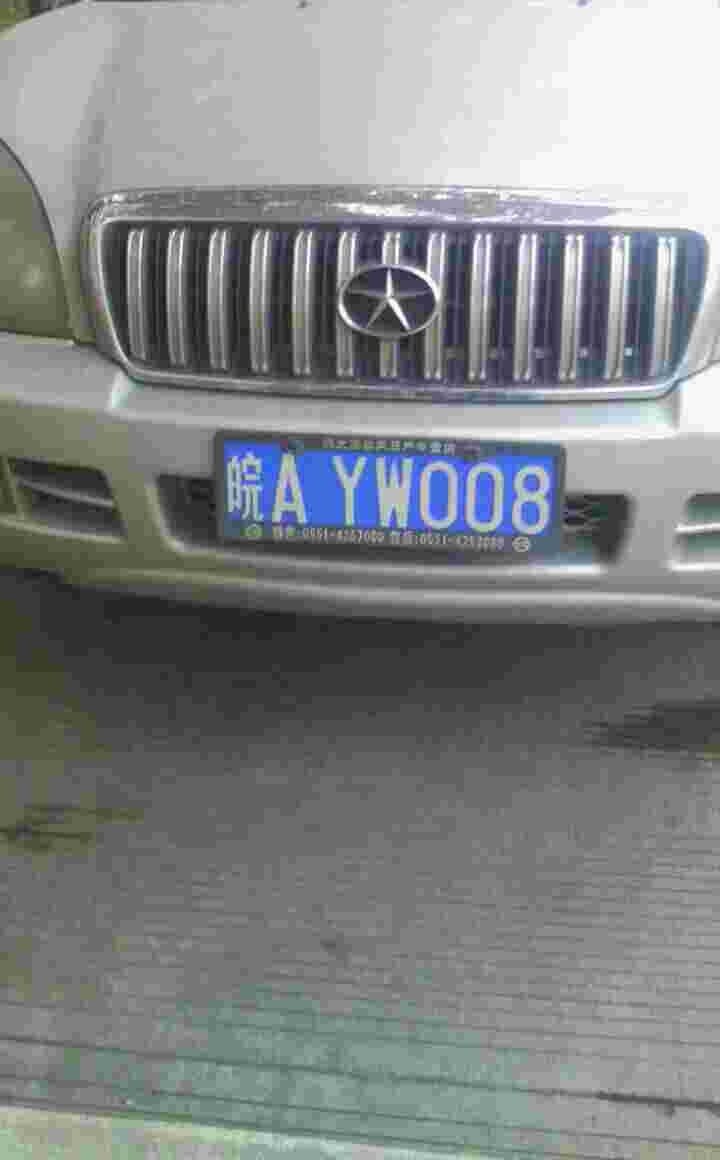license_plate: (226, 446, 563, 540)
